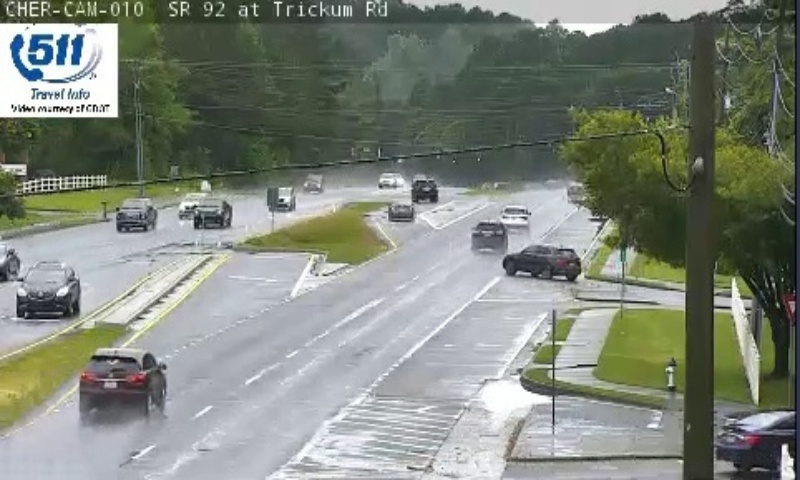car: (78, 348, 165, 409), (471, 220, 508, 252), (499, 205, 529, 232), (387, 198, 415, 221)
